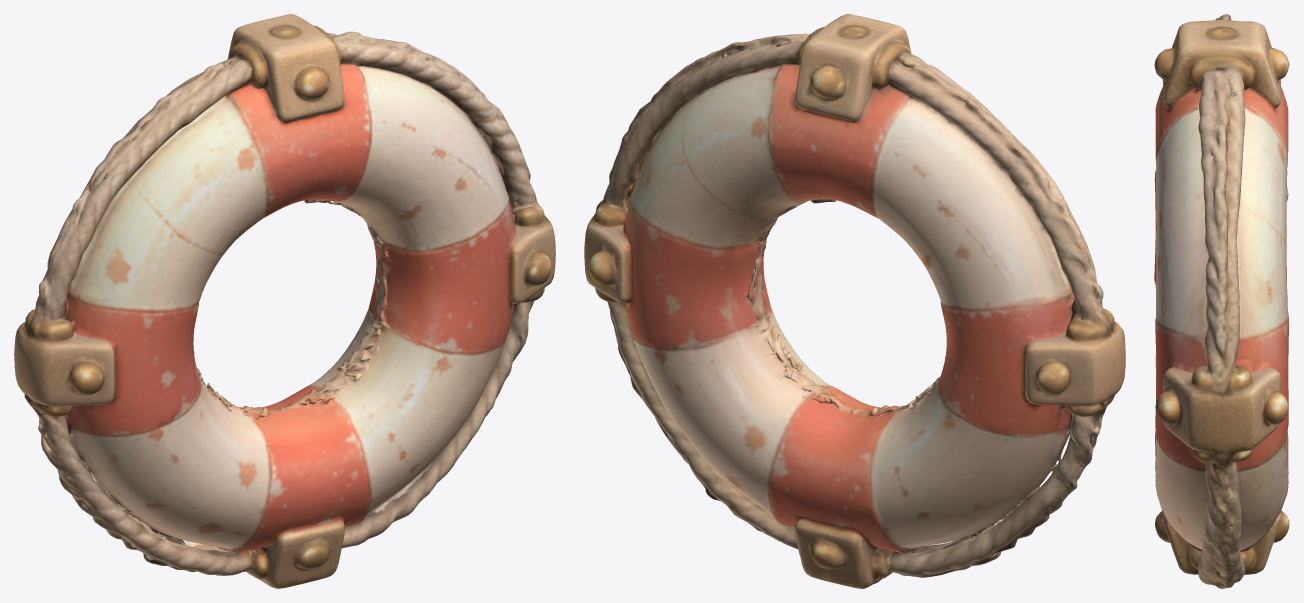
File: D6_救生圈_v2.glb
3 renders of one model, left to right at view 1: azimuth 30°, elevation 25°; view 2: azimuth 150°, elevation 25°; view 3: azimuth 270°, elevation 25°, orthographic.
Visible parts, largest first — view 1: D6_救生圈; view 2: D6_救生圈; view 3: D6_救生圈.
Boxes of the visible parts, x1=… form: D6_救生圈: x1=14, y1=14, x2=555, y2=588; D6_救生圈: x1=584, y1=14, x2=1125, y2=588; D6_救生圈: x1=1154, y1=14, x2=1289, y2=588.
Bounding box in the file's own units: 0.7014 × 0.7 × 0.1604.
Materials: 1 (1 with a texture image).
